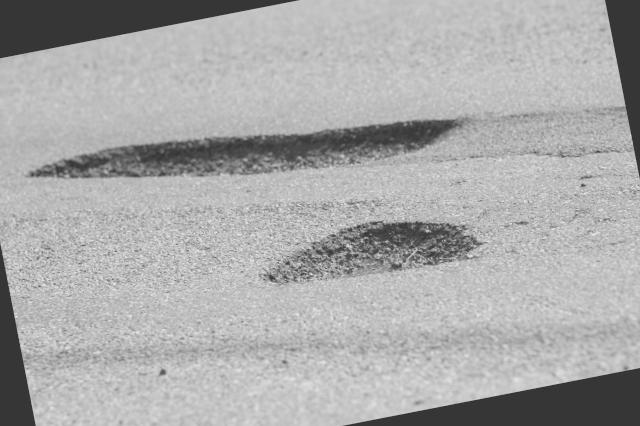Pothole: (21, 75, 468, 229), (239, 191, 492, 313)
